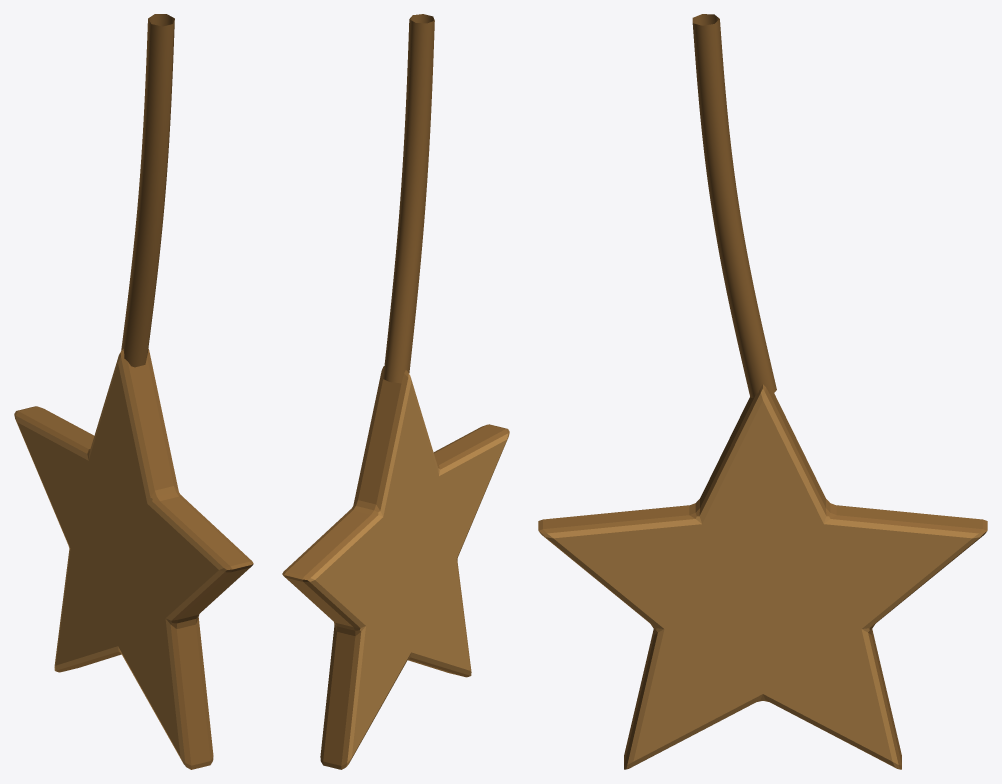
The model's file is SM_Menu_MoonStarCenter.fbx.
3 views of the same model, side by side, from view 1: azimuth 30°, elevation 25°; view 2: azimuth 150°, elevation 25°; view 3: azimuth 270°, elevation 25° (orthographic). The views are drawn at different scales.
Visible parts, largest first — view 1: Rope core.015_Baked; view 2: Rope core.015_Baked; view 3: Rope core.015_Baked.
Part boxes in pixels (x1,y1,x2,y2): Rope core.015_Baked: (14, 14, 253, 769); Rope core.015_Baked: (282, 14, 509, 769); Rope core.015_Baked: (538, 14, 987, 769).
Size of the model in its own units: 4 by 46.94 by 86.06.
